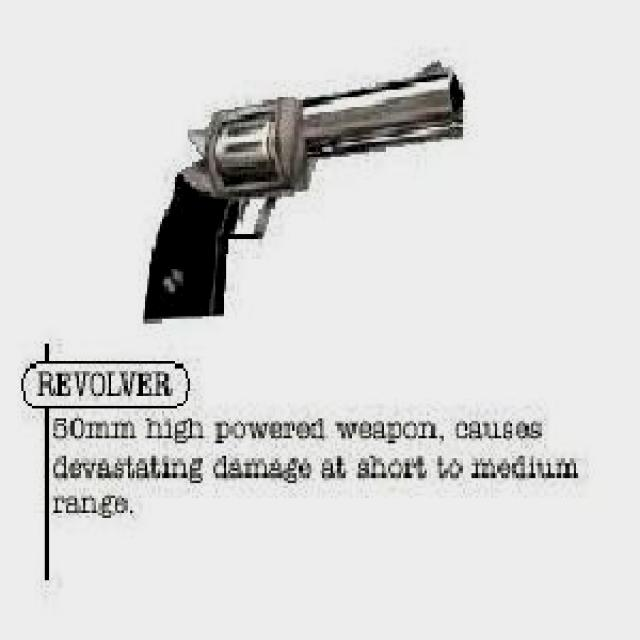pistol: (141, 57, 465, 319)
